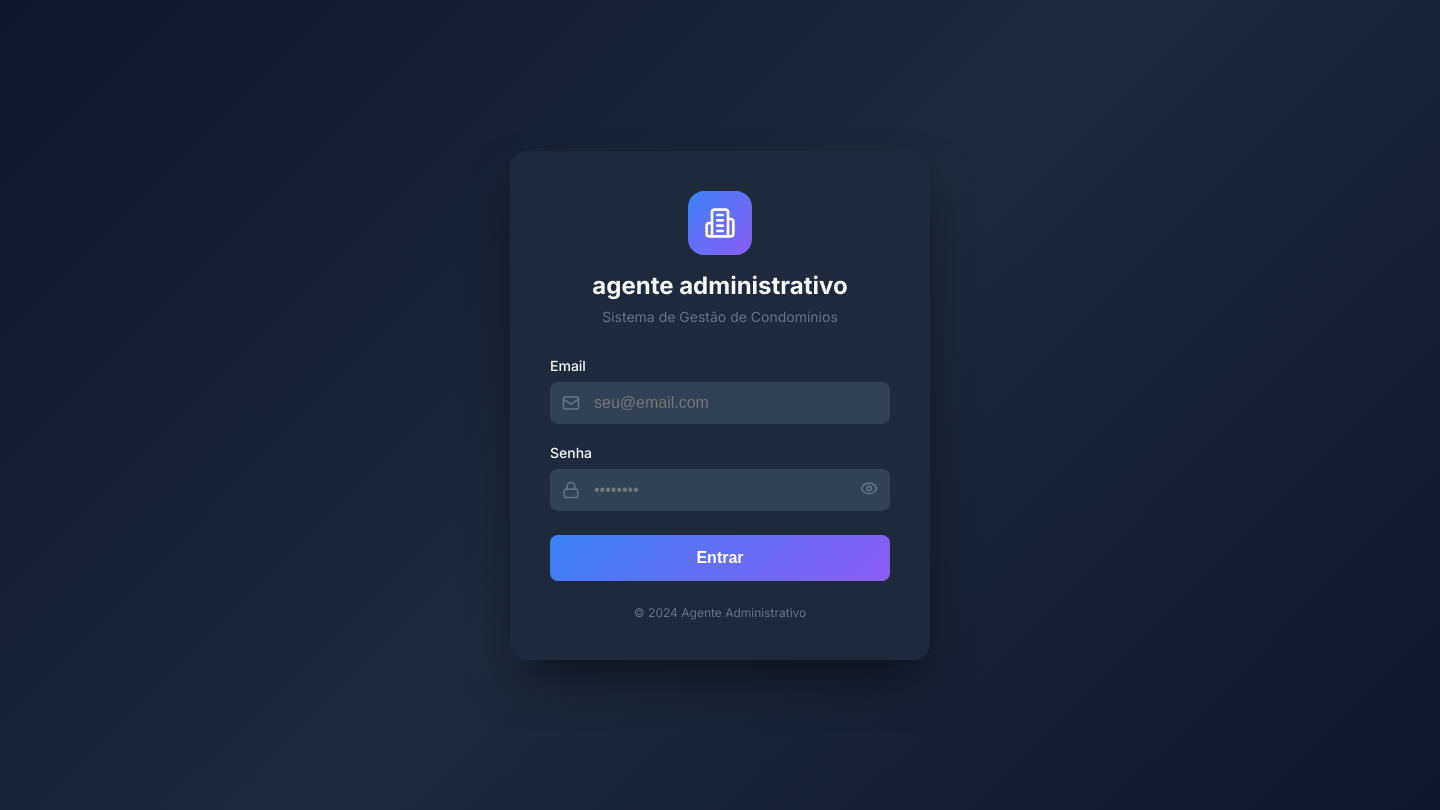
Scenario: 🔐 LoginPage Component › ❌ Tratamento de Erros › limpa erro anterior ao tentar novamente
Step 1. Type "test@test.com" into the field with placeholder "seu@email.com" → x=720, y=402, box [550,382,890,424]
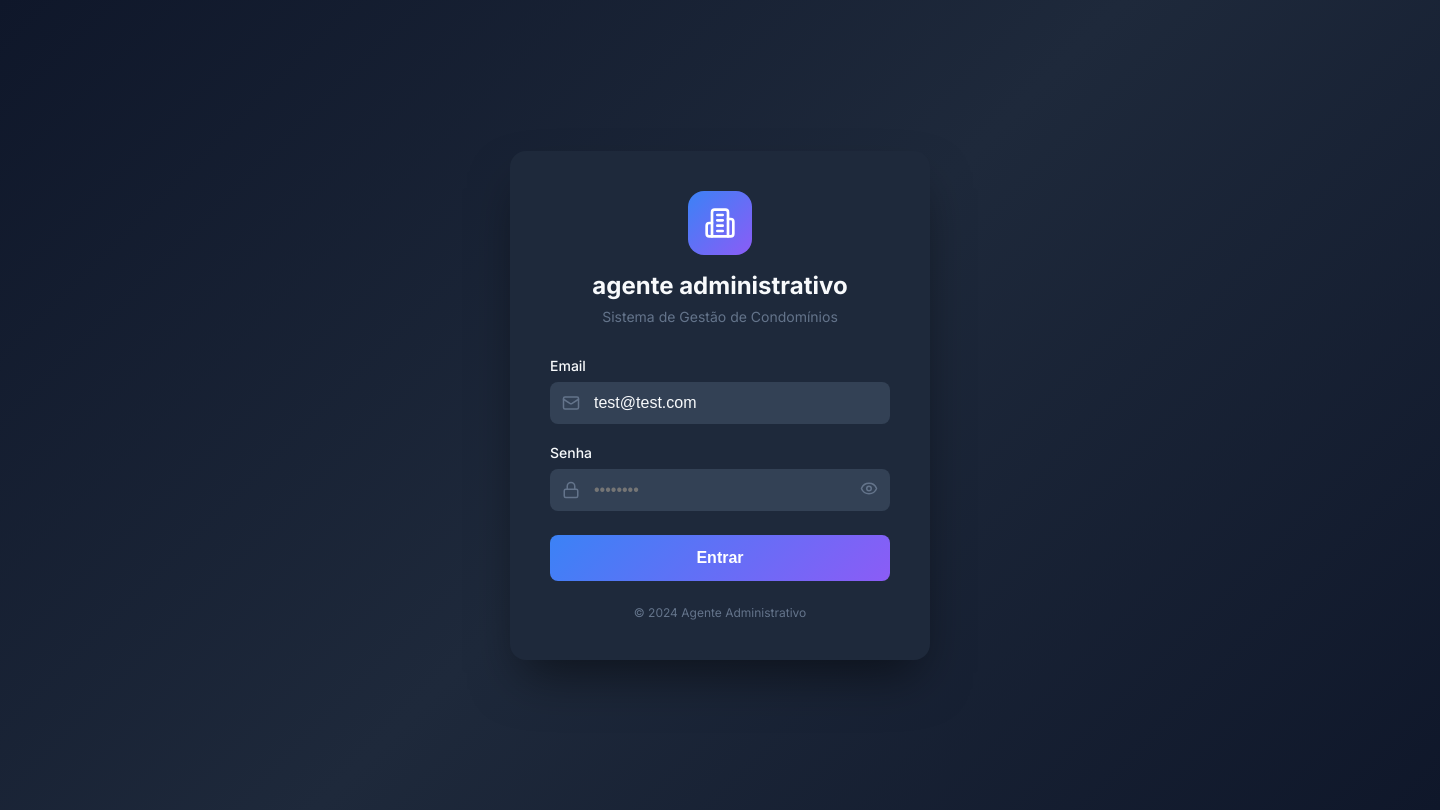
Step 2. Type "test123" into the password field with placeholder "••••••••" → x=720, y=490, box [550,468,890,510]
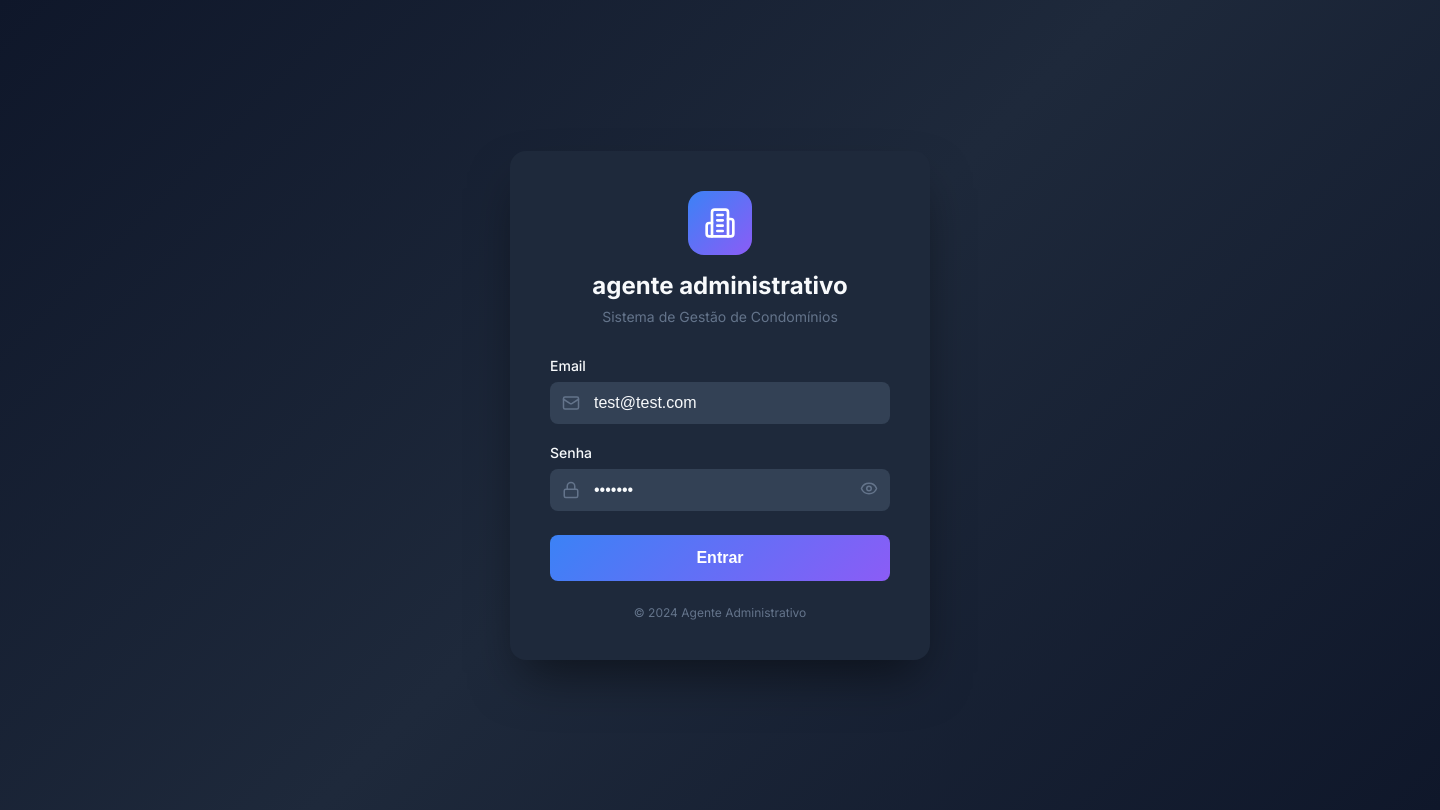
Step 3. Click the button "Entrar" → x=720, y=558, box [550,534,890,580]
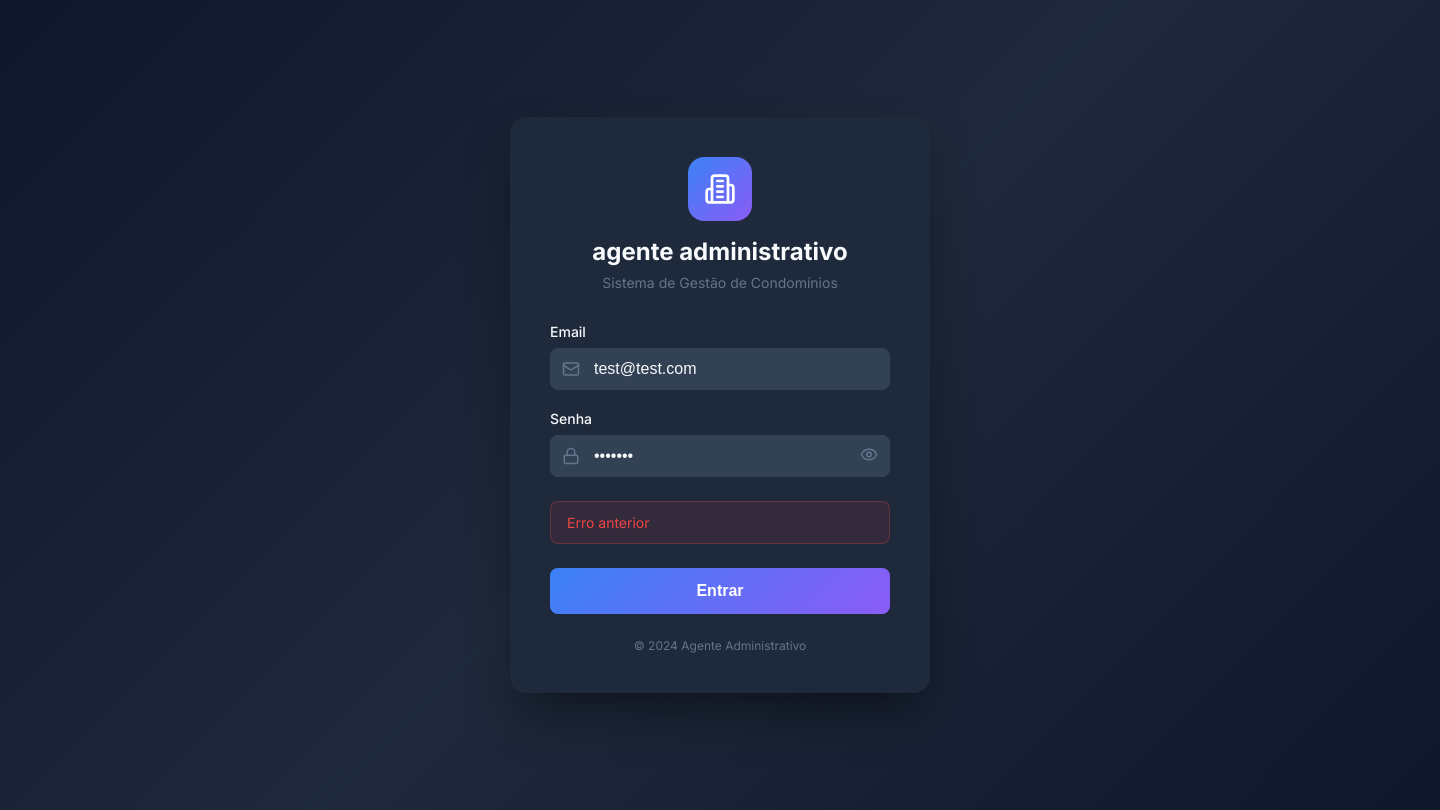
Expected: the text "Erro anterior" is shown, [550,501,890,544]
Step 4. Click the button "Entrar" → x=720, y=591, box [550,568,890,614]
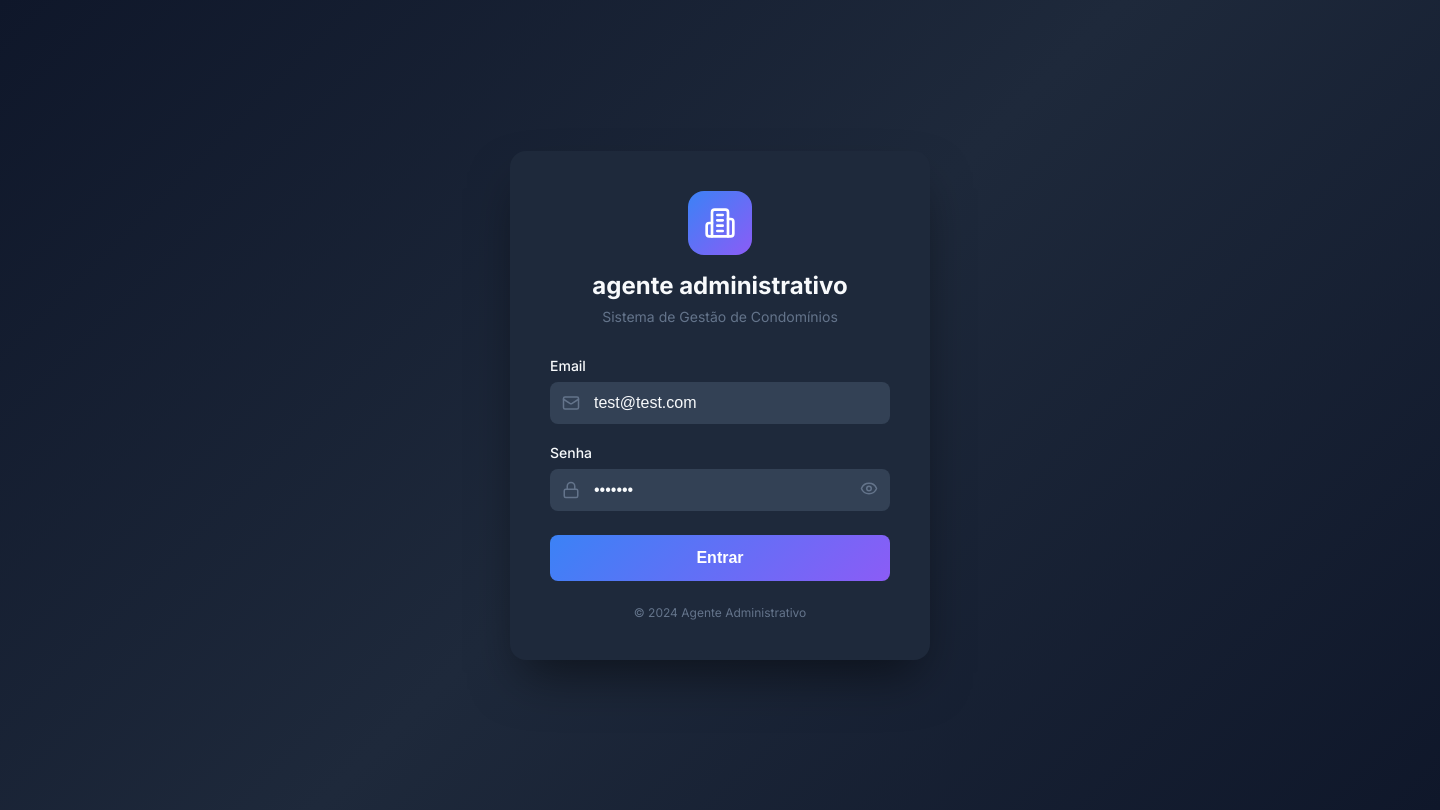
Expected: the text "Erro anterior" is gone
